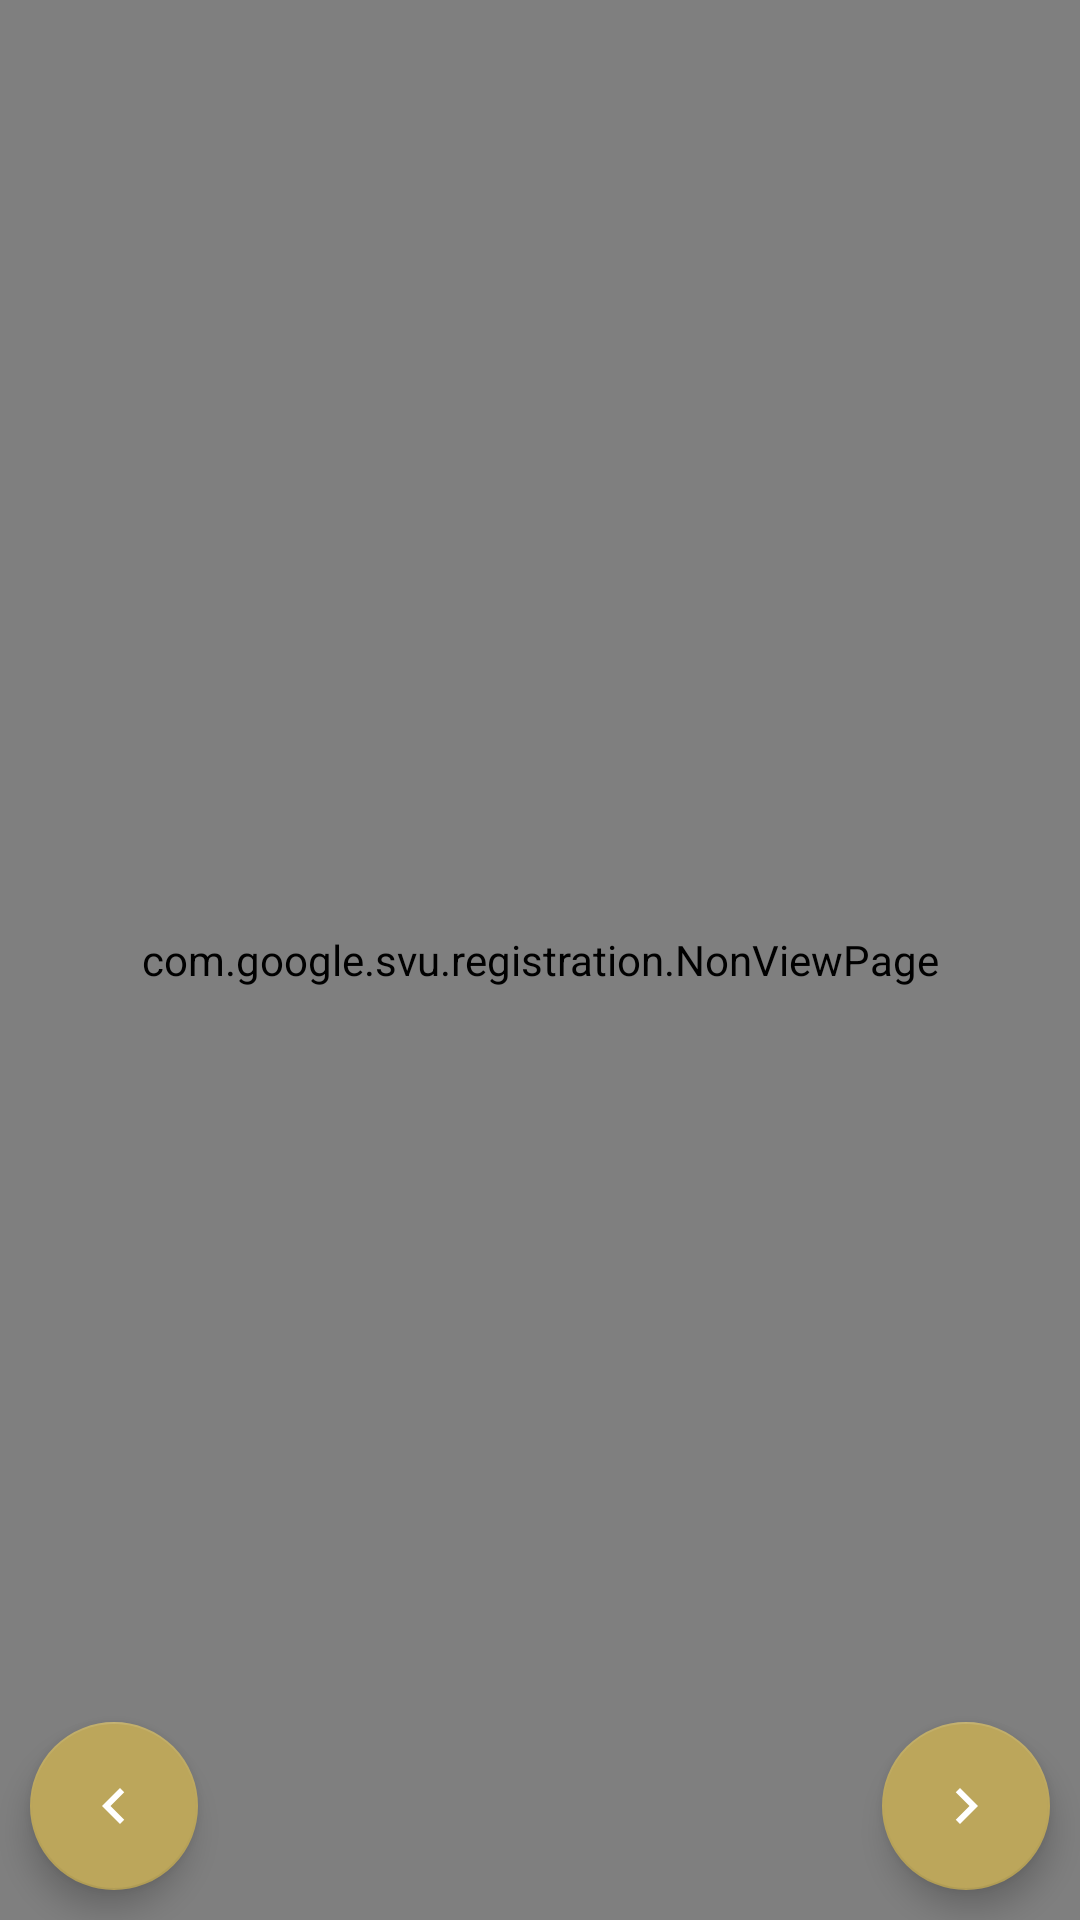

Icon click points for this 1080 x 1920 phone screenshot, format (x=x, y=y):
navigate before: (x=114, y=1806)
navigate next: (x=966, y=1806)
